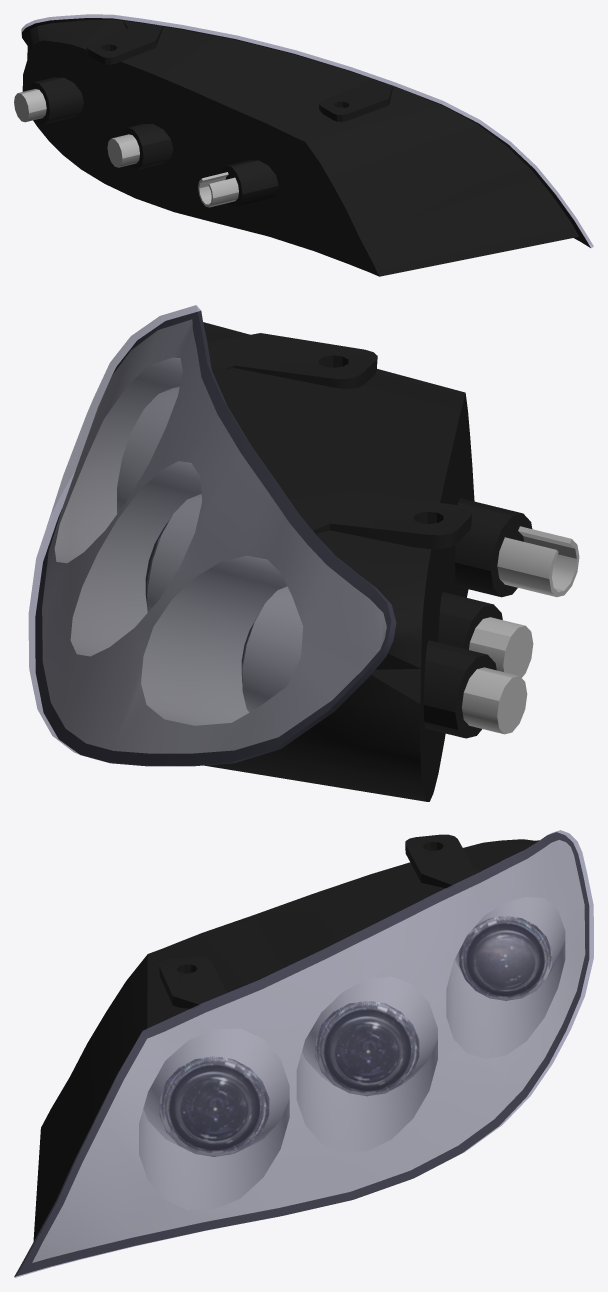
3 views of the same model, one above another, from view 1: azimuth 30°, elevation 25°; view 2: azimuth 150°, elevation 25°; view 3: azimuth 270°, elevation 25° (orthographic). The views are drawn at different scales.
Parts seen in each view (by area): view 1: F183_061B_L_F183_061B_L_2_D, F183_061B_L_1_N_F183_061B_L, F183_061B_L_F183_061B_L_5_DTaSI; view 2: F183_061B_L_F183_061B_L_5_DTaSI, F183_061B_L_1_N_F183_061B_L, F183_061B_L_F183_061B_L_2_D; view 3: F183_061B_L_F183_061B_L_5_DTaSI, F183_061B_L_1_N_F183_061B_L, F183_061B_L_F183_061B_L_2_D, F183_061B_L_F183_061B_L_6_N, F183_061B_L_F183_061B_L_4_N, F183_061B_L_F183_061B_L_3_N.
Boxes of the visible parts, x1,y1,x2,y2 form: F183_061B_L_F183_061B_L_2_D: (22,18,590,276); F183_061B_L_1_N_F183_061B_L: (14,89,238,207); F183_061B_L_F183_061B_L_5_DTaSI: (21,14,593,247); F183_061B_L_F183_061B_L_5_DTaSI: (28,305,395,765); F183_061B_L_1_N_F183_061B_L: (42,319,579,753); F183_061B_L_F183_061B_L_2_D: (35,311,532,801); F183_061B_L_F183_061B_L_5_DTaSI: (14,830,593,1277); F183_061B_L_1_N_F183_061B_L: (32,840,585,1262); F183_061B_L_F183_061B_L_2_D: (14,832,589,1276); F183_061B_L_F183_061B_L_6_N: (159,1056,269,1156); F183_061B_L_F183_061B_L_4_N: (315,1000,419,1096); F183_061B_L_F183_061B_L_3_N: (459,915,552,1000).
Bounding box in the file's own units: 52.37 × 21.73 × 50.29.
